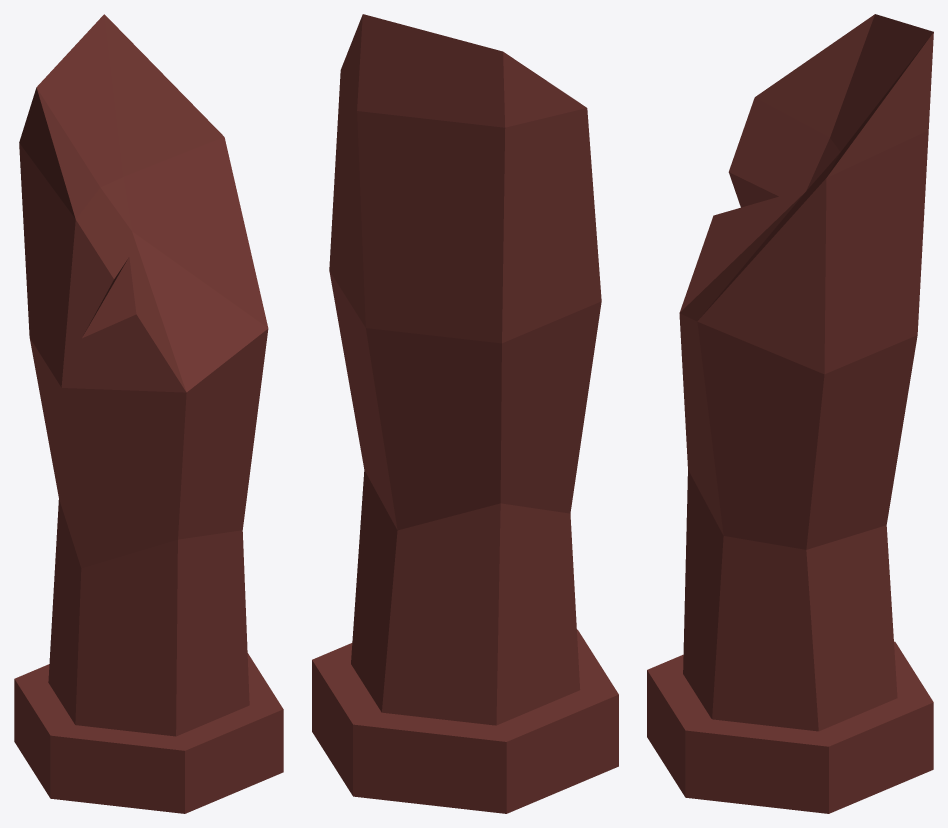
The model's file is Ruin_1_Red.fbx.
The picture shows the model from 3 angles, left to right: view 1: azimuth 30°, elevation 25°; view 2: azimuth 150°, elevation 25°; view 3: azimuth 270°, elevation 25°; orthographic projection. The views are drawn at different scales.
Visible parts, largest first — view 1: Ruin_1_Red; view 2: Ruin_1_Red; view 3: Ruin_1_Red.
Part boxes in pixels (x1,y1,x2,y2): Ruin_1_Red: (14, 14, 283, 813); Ruin_1_Red: (312, 14, 618, 813); Ruin_1_Red: (647, 14, 933, 813).
Size of the model in its own units: 116 by 327 by 116.
